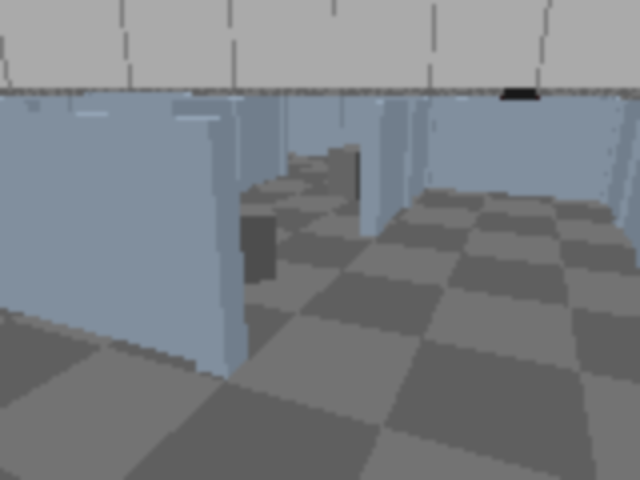obstacle: (217, 202, 277, 284)
